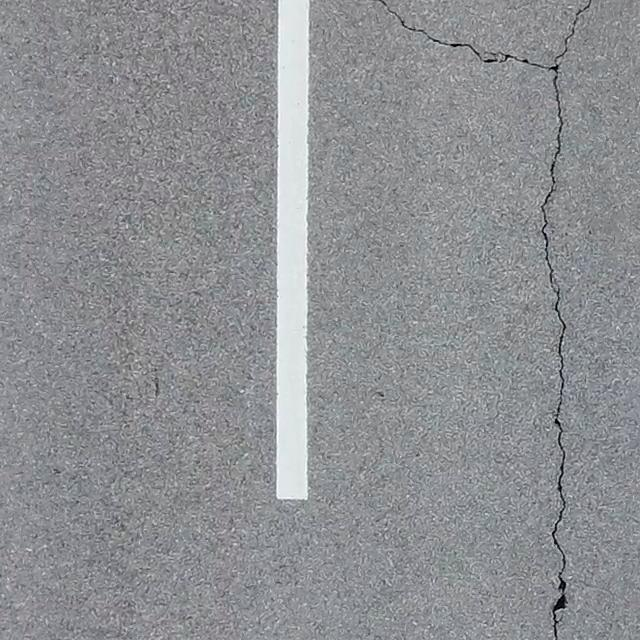GRIETA: (538, 0, 595, 638), (375, 0, 544, 69)
